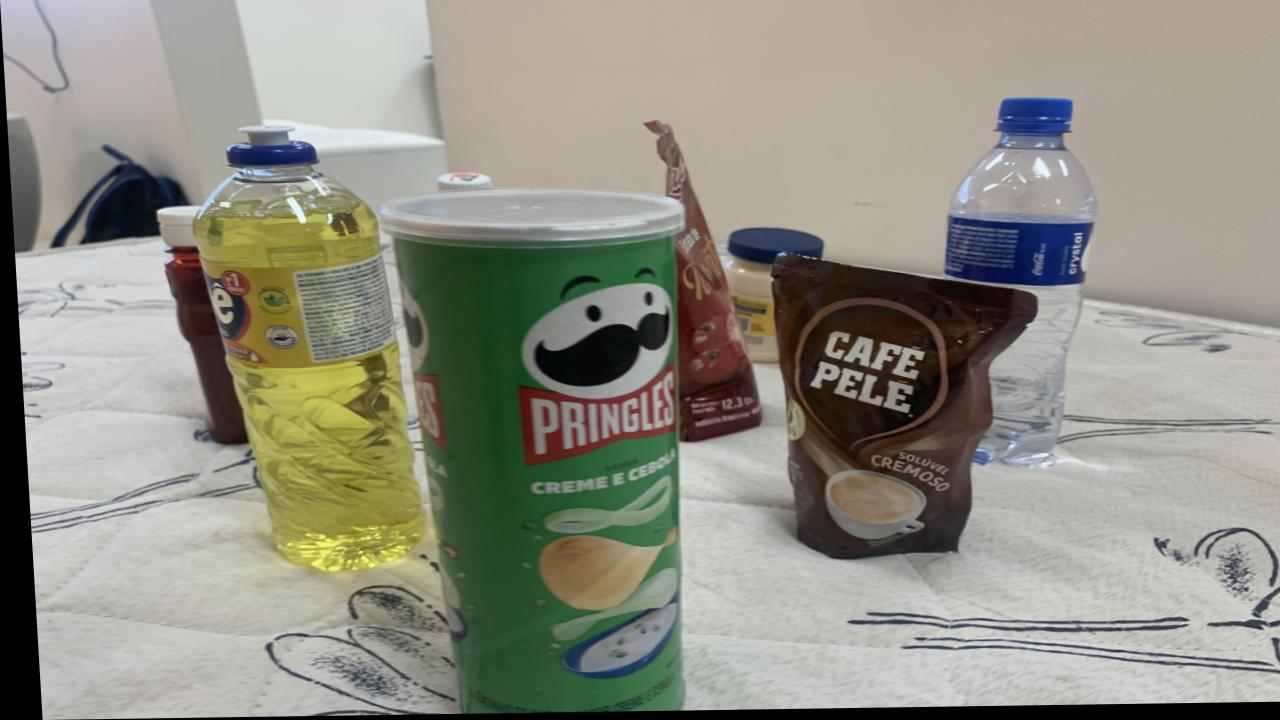Coffee-Pantry_Items: (768, 257, 1033, 561)
Detergent-Cleanup_Items: (191, 126, 417, 570)
Guarana-Drinks: (436, 173, 491, 192)
Ketchup-Pantry_Items: (186, 290, 191, 296)
Mayonnaise-Pantry_Items: (155, 206, 241, 444), (720, 229, 822, 365), (872, 356, 875, 359)
Pringles-Snacks: (378, 190, 681, 713)
Tomato_Sauce-Pantry_Items: (644, 124, 757, 444)
Water_Bottle-Drinks: (940, 101, 1096, 470)
